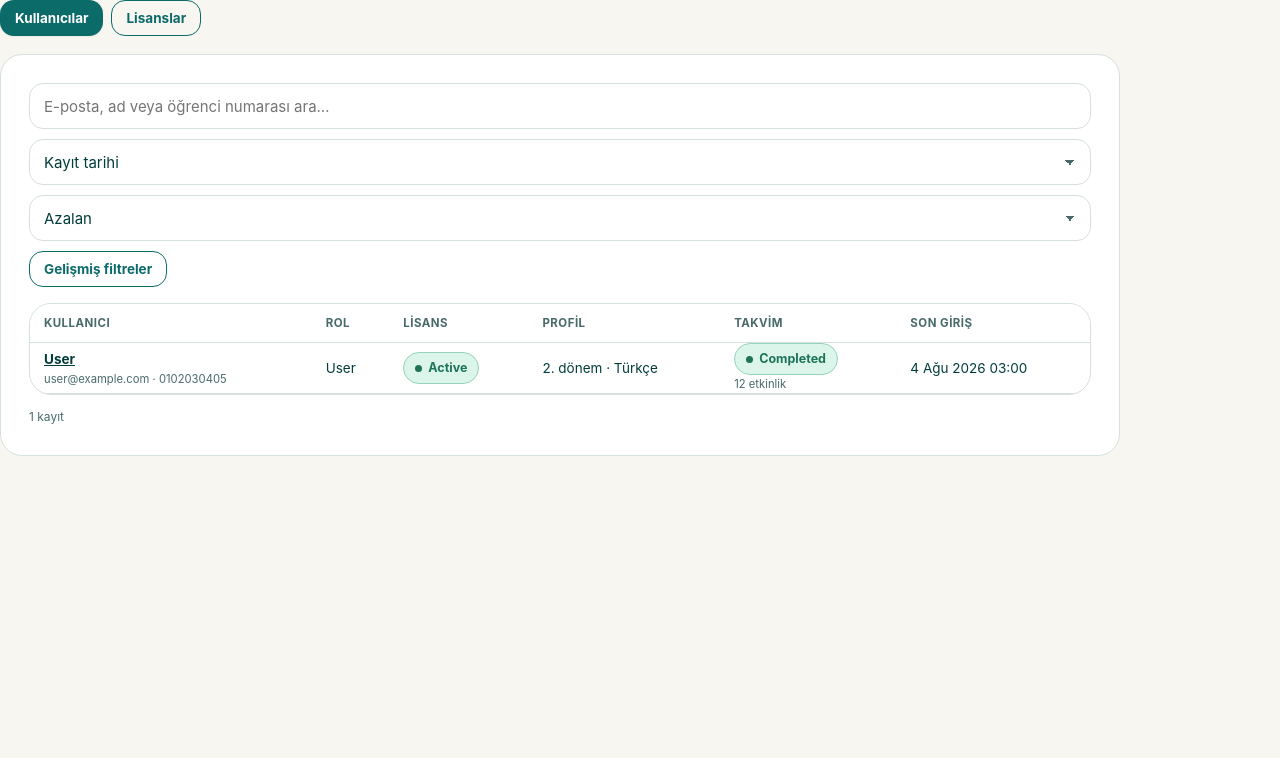
Test case: AdminUserDirectory › sends every advanced filter to the backend rather than narrowing in the browser
The width and height of the screenshot is (1280, 758).
Expected: the text "user@example.com" is shown, [44,372,149,386]
Click the button "Gelişmiş filtreler": (98, 269) [29,251,167,287]
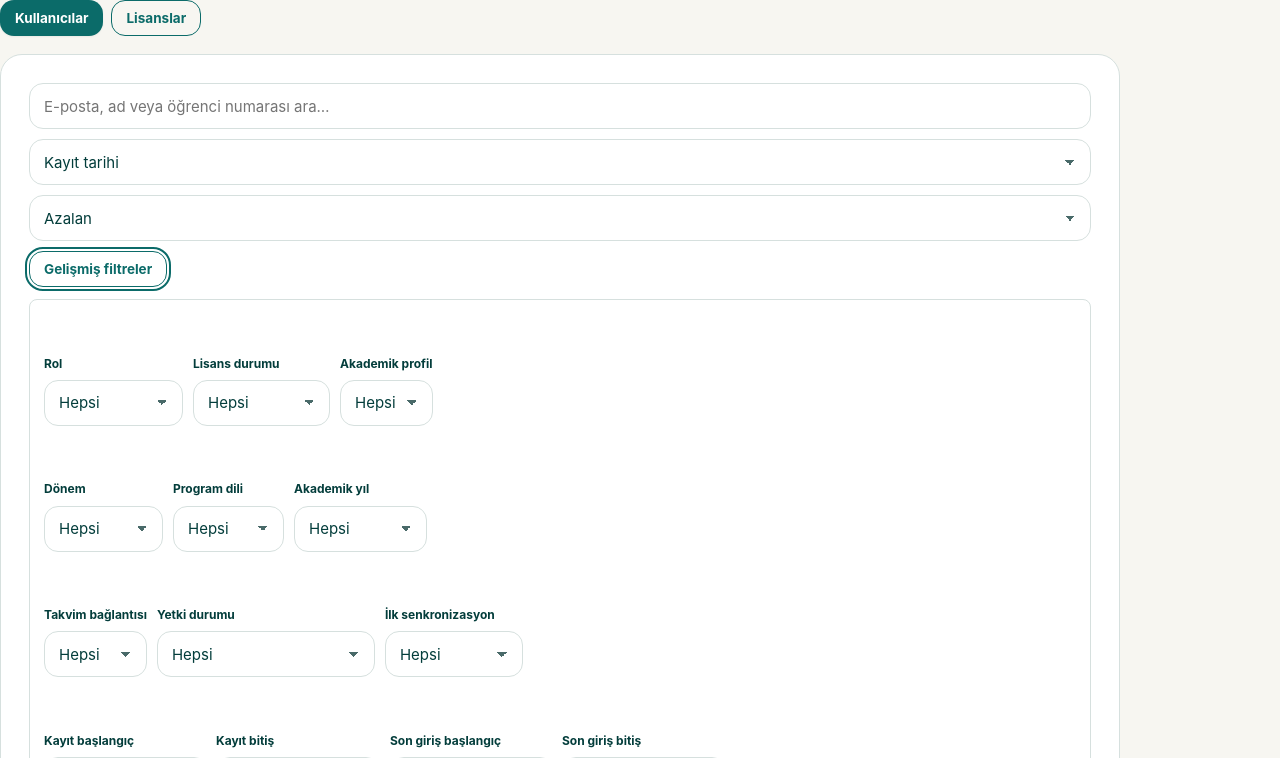
Select "İptal edilmiş" in the dropdown labelled "Lisans durumu": (262, 403) [193,380,330,426]
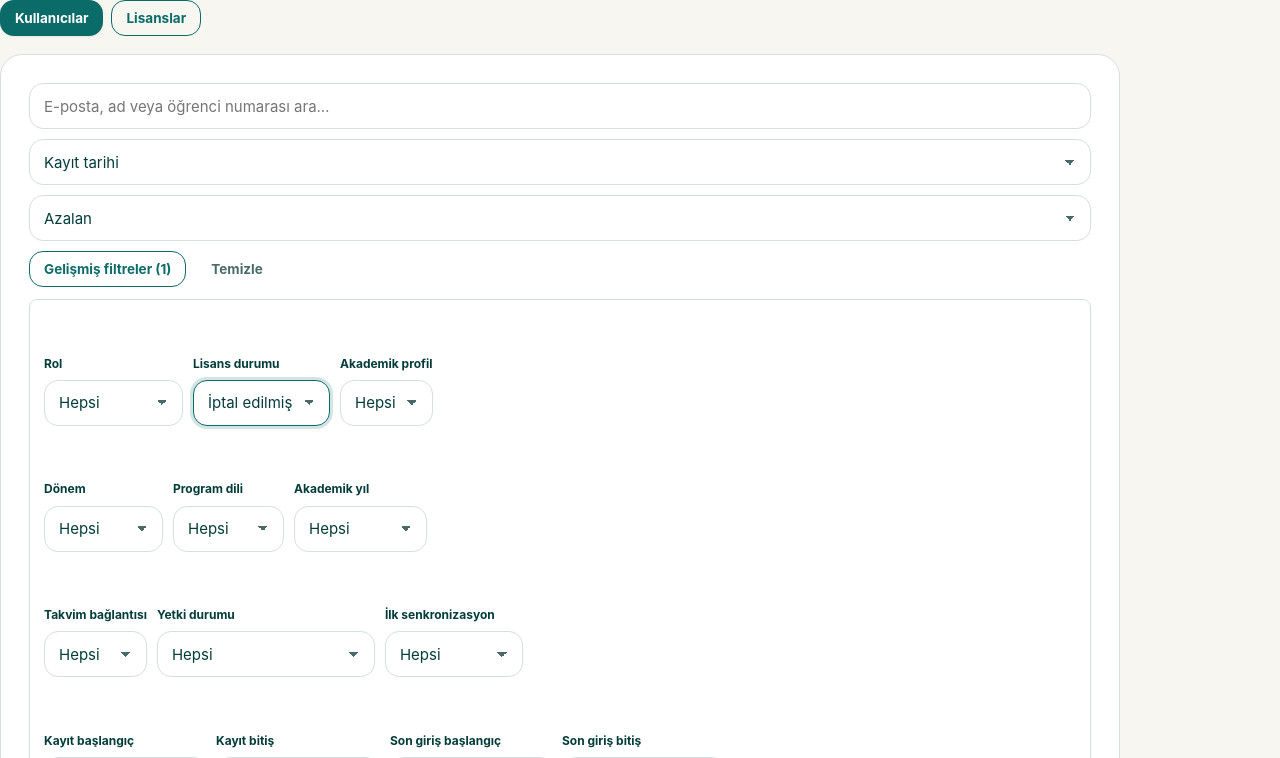
Select "Başlamadı" in the dropdown labelled "İlk senkronizasyon": (454, 654) [385,631,523,677]
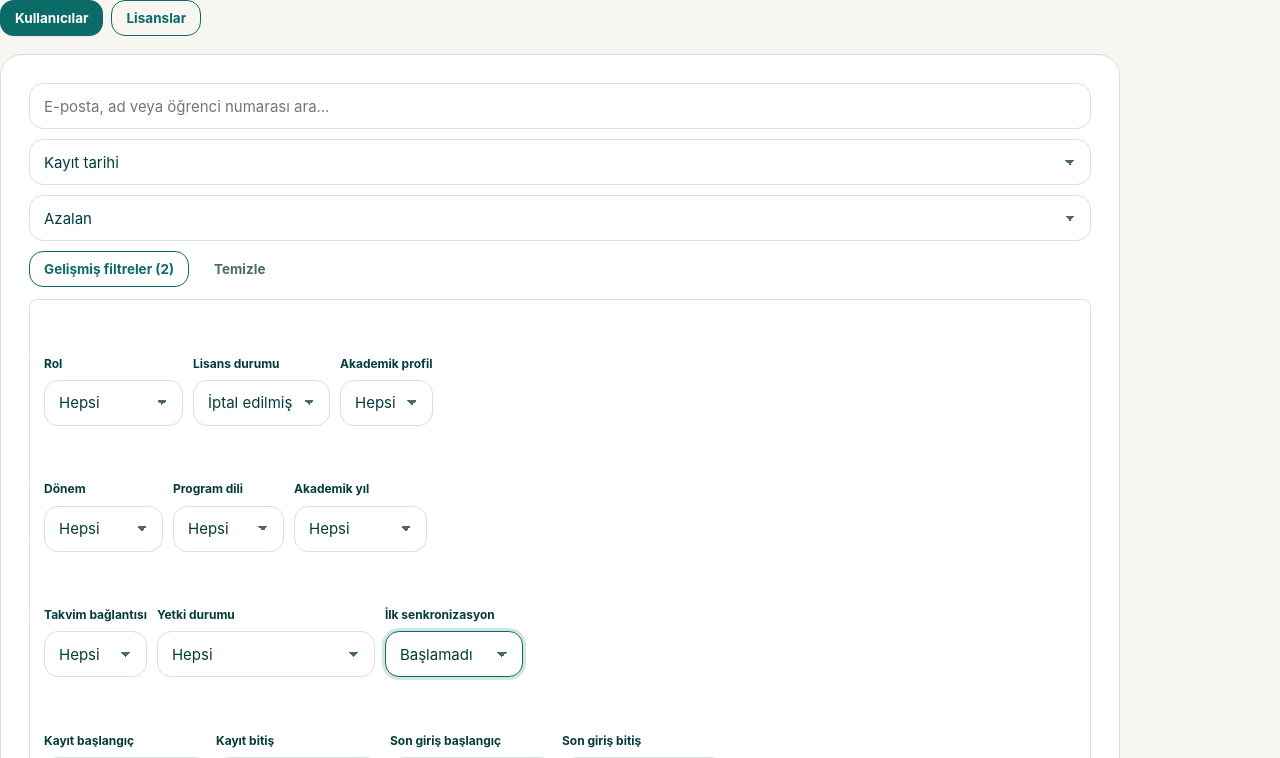
Expected: the button "Gelişmiş filtreler (2)" is shown, [29,251,189,287]
